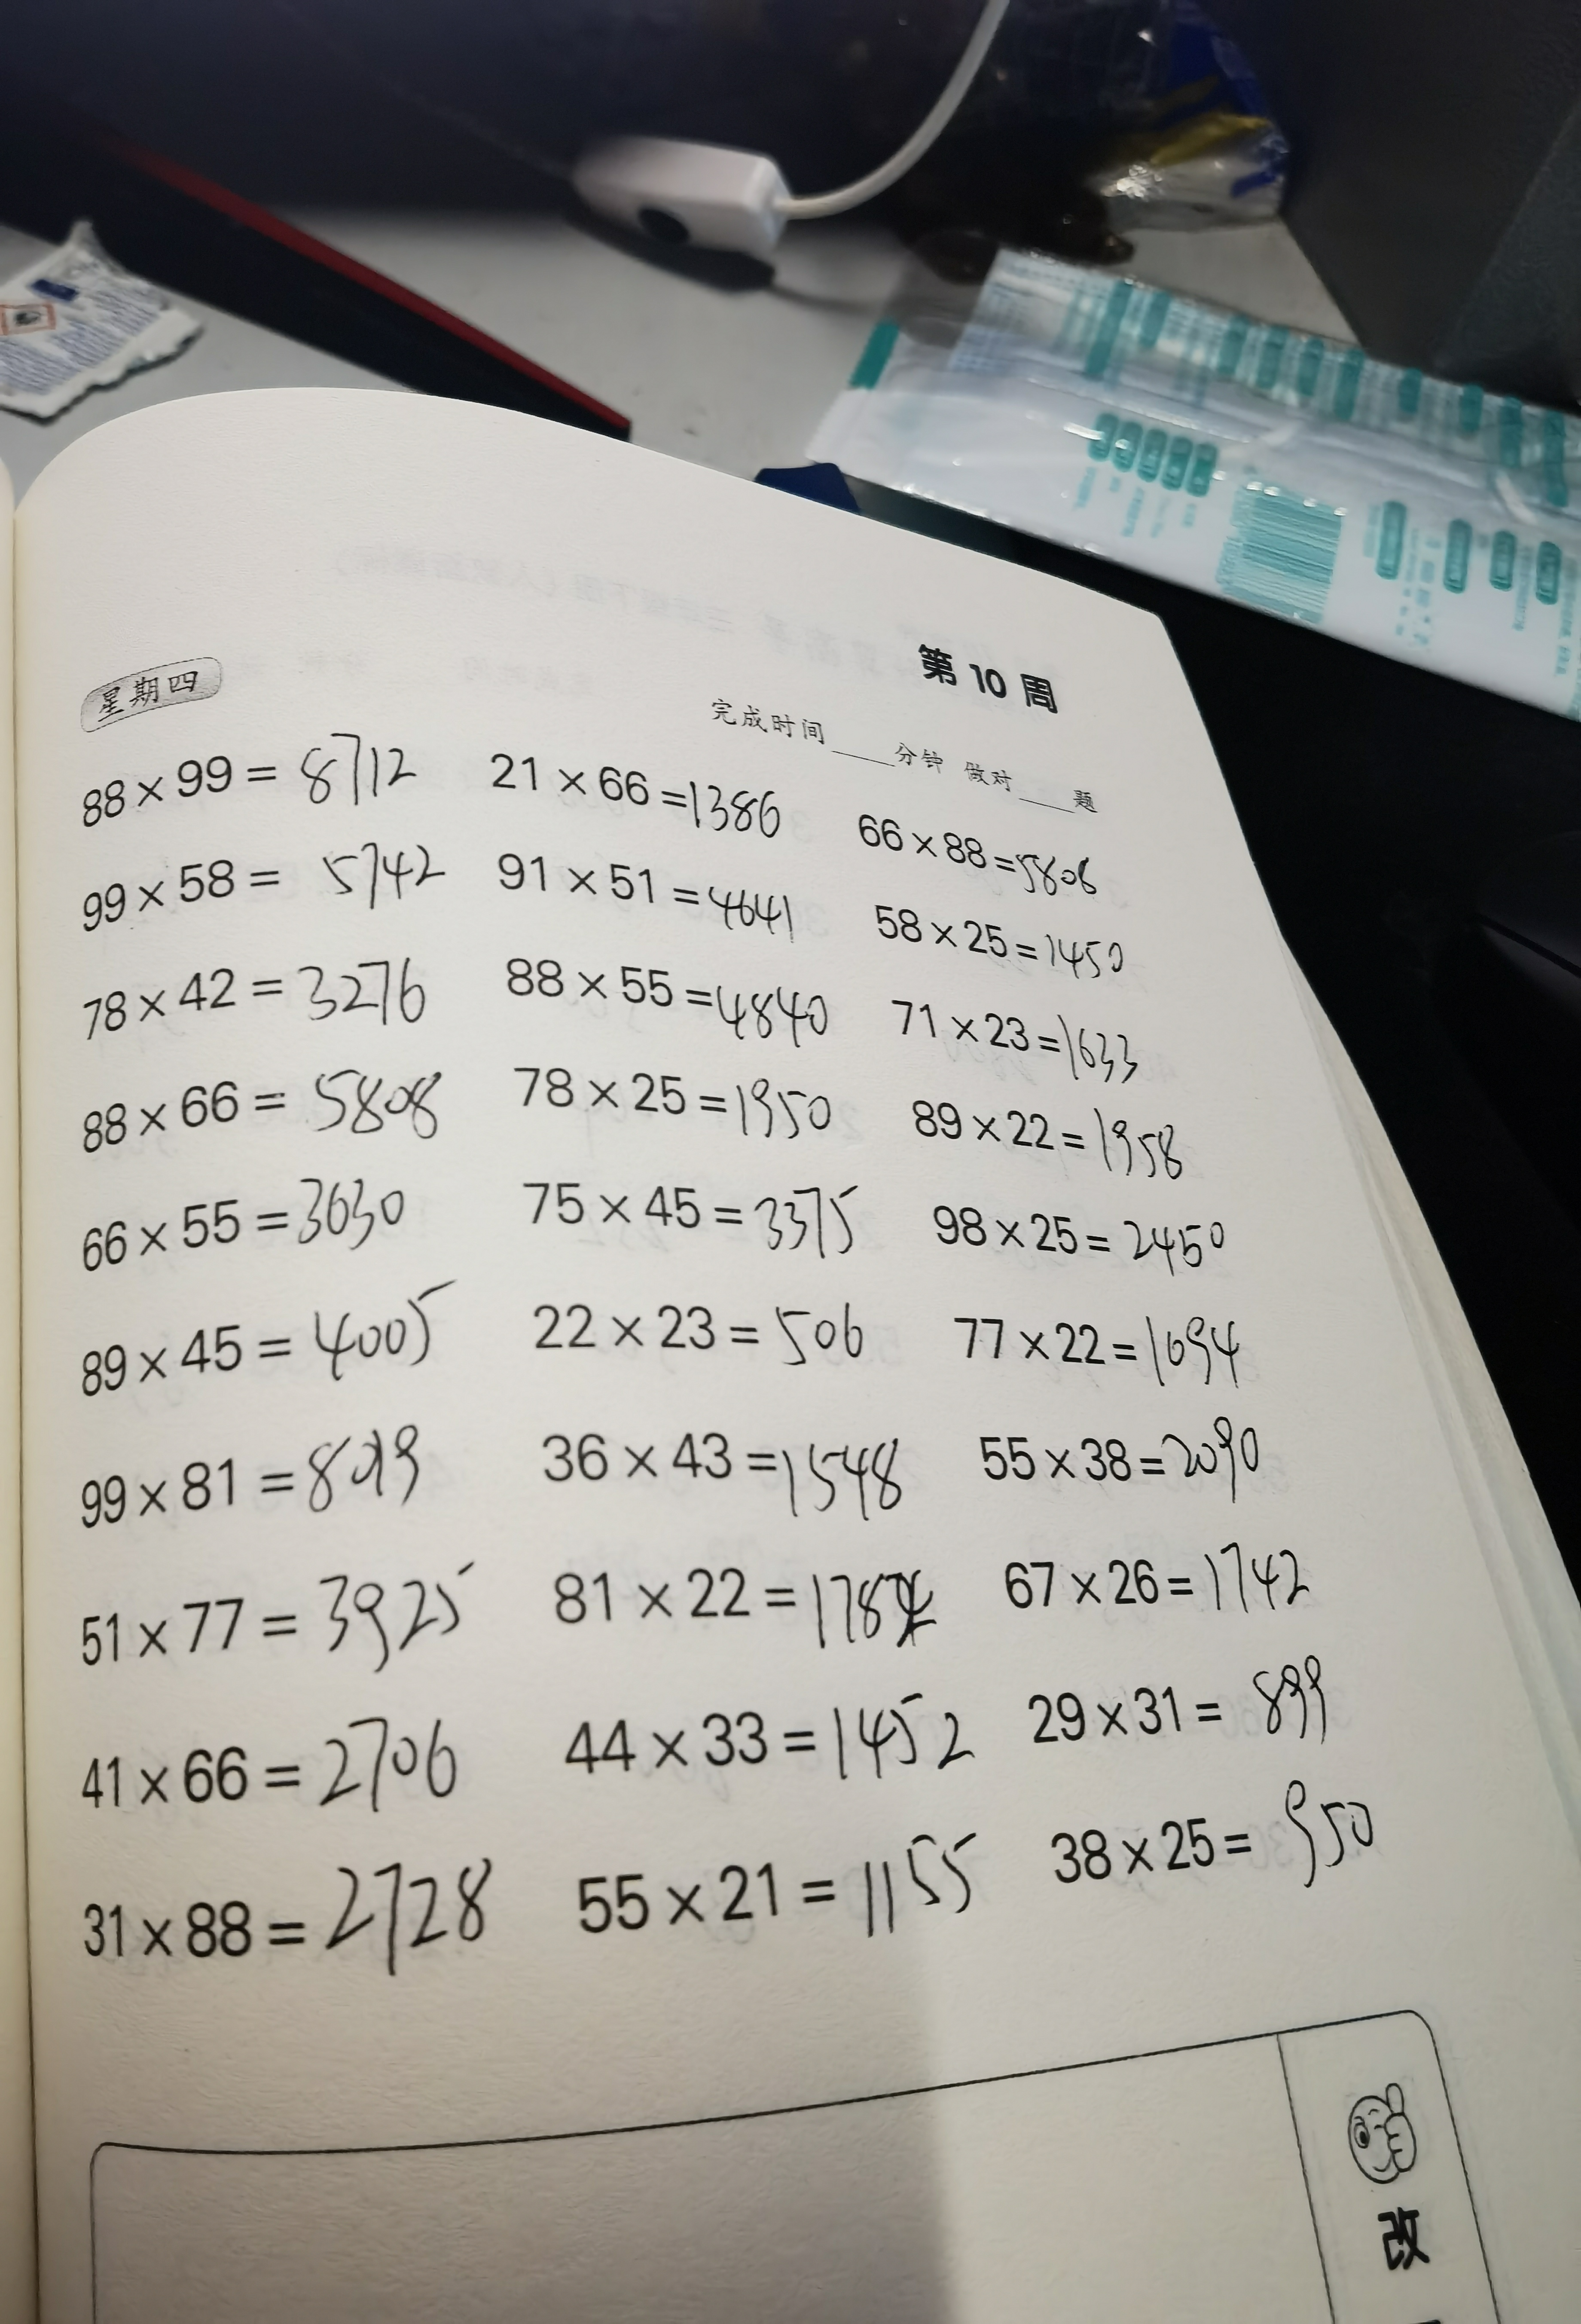equation: (39, 1855, 498, 1973), (62, 1678, 459, 1814), (46, 1553, 503, 1662), (64, 1415, 445, 1544), (535, 1398, 926, 1523), (49, 1297, 468, 1405), (457, 716, 799, 847), (528, 1551, 942, 1659), (563, 1842, 1025, 1936), (1050, 1779, 1394, 1904), (526, 1249, 873, 1373), (545, 1694, 958, 1795), (65, 822, 450, 930), (1000, 1516, 1348, 1634), (64, 1057, 452, 1158), (529, 1140, 944, 1233), (1013, 1641, 1346, 1756), (487, 842, 829, 953), (489, 955, 866, 1055), (48, 1170, 427, 1269), (948, 1286, 1279, 1398), (44, 729, 431, 824), (847, 796, 1145, 911), (967, 1387, 1292, 1489), (889, 986, 1180, 1098), (503, 1064, 845, 1152), (81, 953, 439, 1031), (891, 1087, 1193, 1177), (935, 1191, 1235, 1281), (872, 886, 1142, 983)
